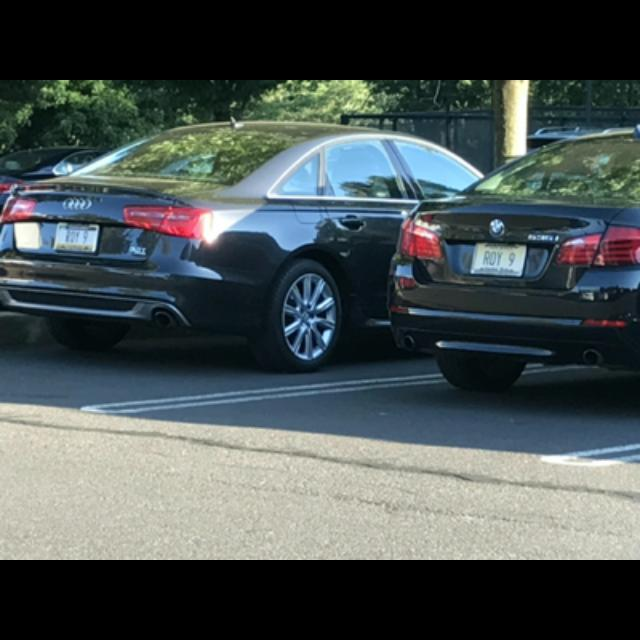carPlate: (469, 243, 527, 278), (52, 222, 99, 253)
